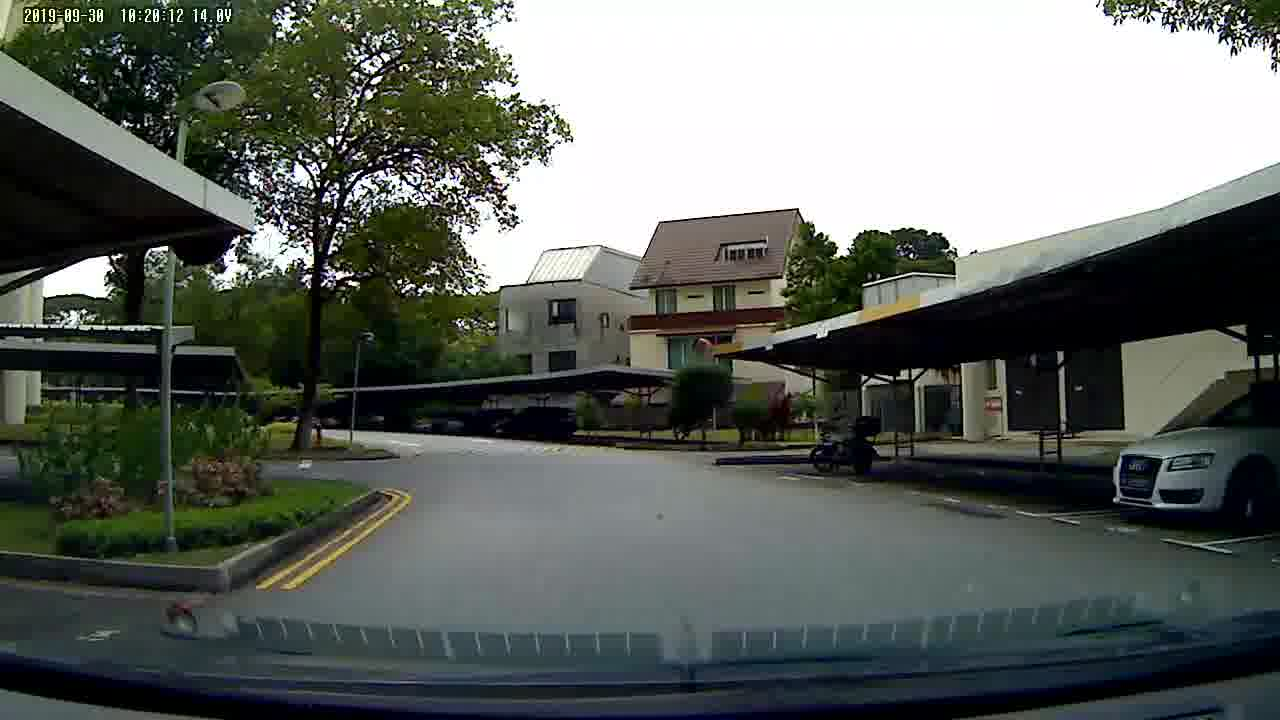car: (1107, 379, 1280, 513)
